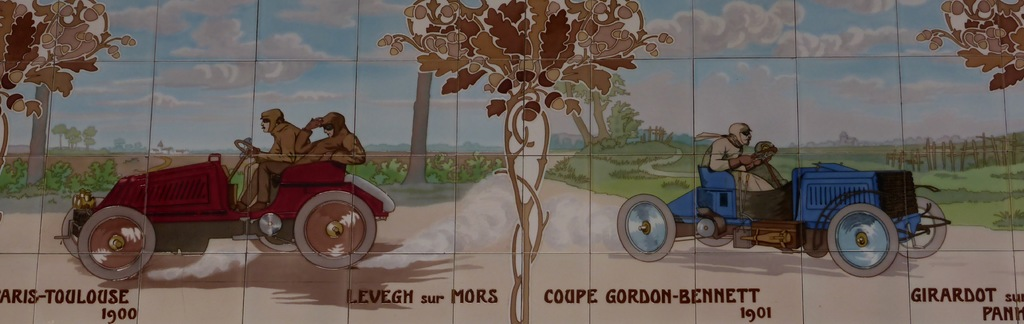Car: (71, 115, 389, 272), (616, 147, 951, 277)
